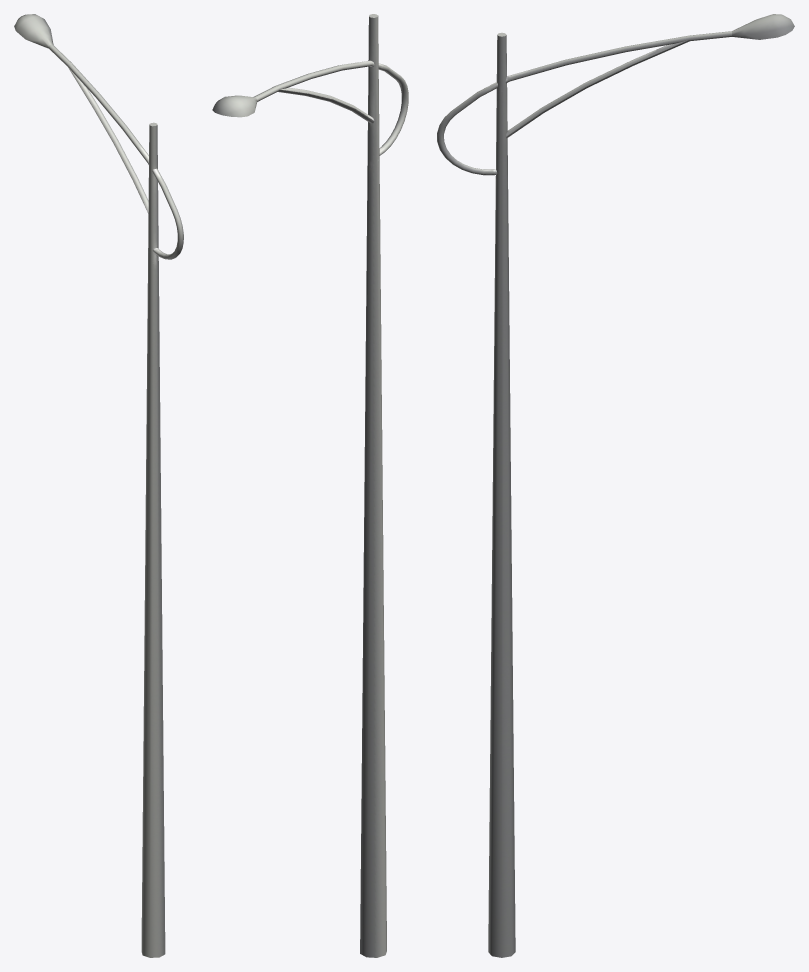
Rendered from deng.FBX.
The picture shows the model from 3 angles, left to right: view 1: azimuth 30°, elevation 25°; view 2: azimuth 150°, elevation 25°; view 3: azimuth 270°, elevation 25°; orthographic projection. The views are drawn at different scales.
Visible parts, largest first — view 1: ludeng; view 2: ludeng; view 3: ludeng.
Boxes of the visible parts, <box> form: ludeng: <box>14,14,183,957</box>; ludeng: <box>212,14,408,957</box>; ludeng: <box>437,14,794,957</box>.
Bounding box in the file's own units: 0.6336 × 17.2 × 5.95.
1 material, 1 textured.
